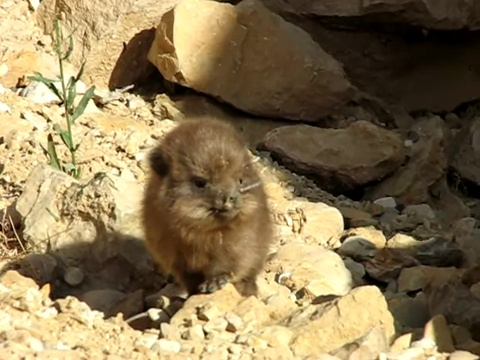Rock Hyrex: (147, 115, 272, 305)
